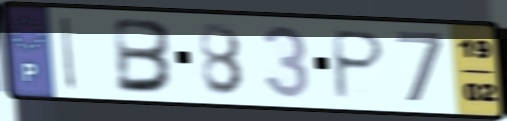3: (259, 22, 313, 102)
7: (392, 28, 449, 107)
8: (196, 21, 247, 98)
B: (112, 15, 178, 96)
I: (59, 13, 79, 92)
P: (331, 27, 389, 102)
